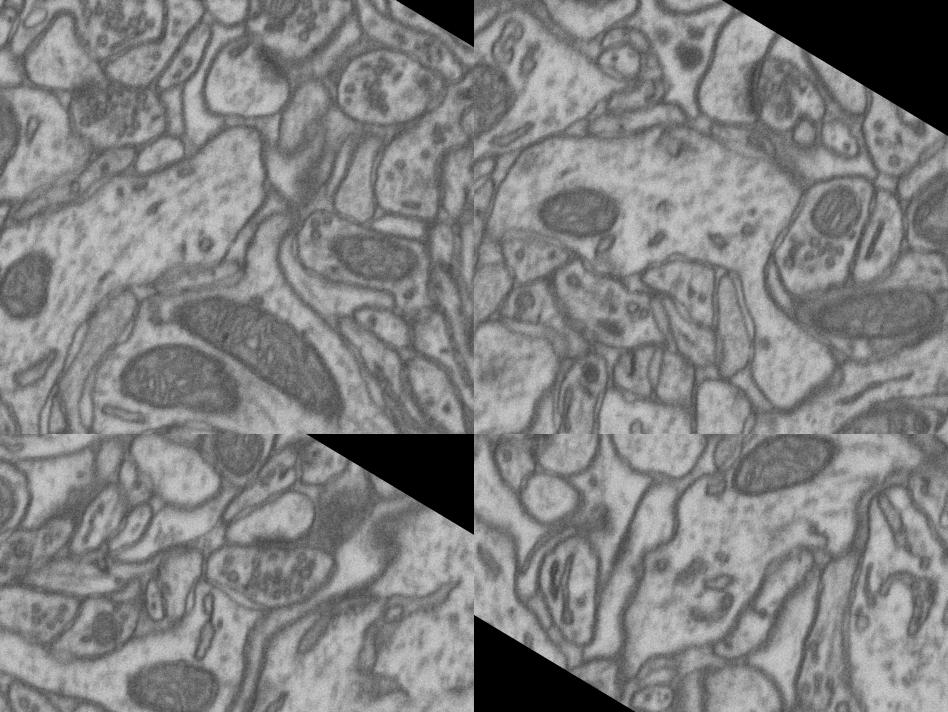mitochondria: (158, 265, 376, 434), (786, 229, 948, 406), (102, 312, 260, 434), (712, 434, 865, 539), (518, 152, 633, 268), (773, 358, 944, 434), (118, 625, 248, 712), (316, 205, 428, 305), (786, 156, 886, 258), (474, 35, 538, 165), (56, 588, 146, 674), (0, 234, 75, 337), (889, 158, 948, 269), (308, 470, 386, 548), (187, 434, 280, 499), (0, 77, 40, 211), (0, 453, 29, 557), (232, 0, 320, 33), (0, 434, 67, 468), (566, 662, 614, 696), (270, 0, 352, 13)
